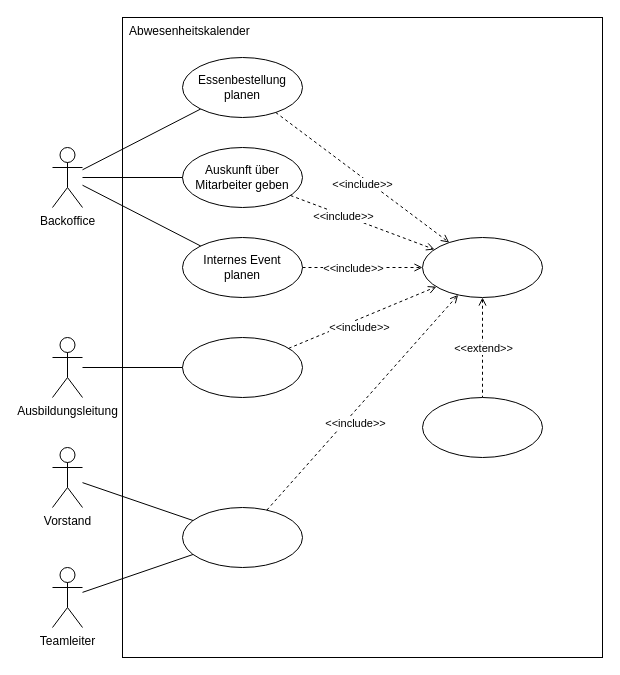
Some shapes in this 620 by 675 pixel diagram are drawn without their labels. Here are the shapes that lost their labels. From the top down, the box of each, then its label:
(422, 236, 542, 298): Abwesenheiten aufrufen
(182, 336, 302, 398): Schulungszeiträume festlegen
(422, 396, 542, 458): Mitarbeiter filtern
(182, 506, 302, 568): Kundenprojekte verteilen
